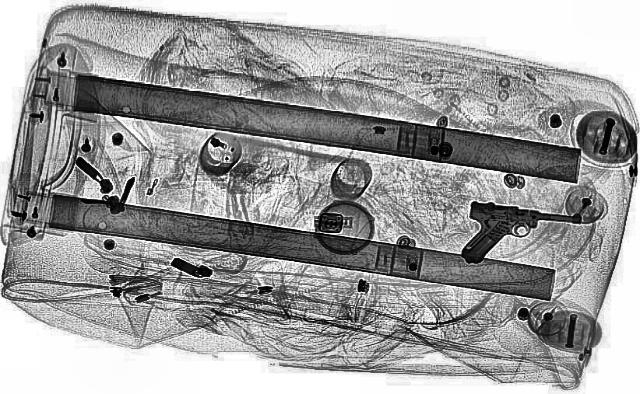Gun: (452, 200, 586, 269)
